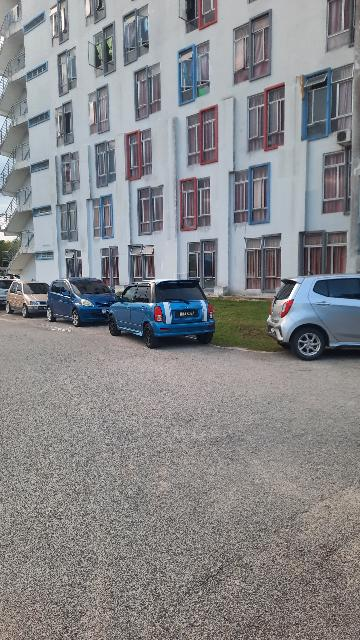License_Plate: (175, 311, 203, 320)
car: (264, 271, 360, 361), (107, 278, 220, 348), (46, 281, 123, 328), (4, 277, 53, 316)
